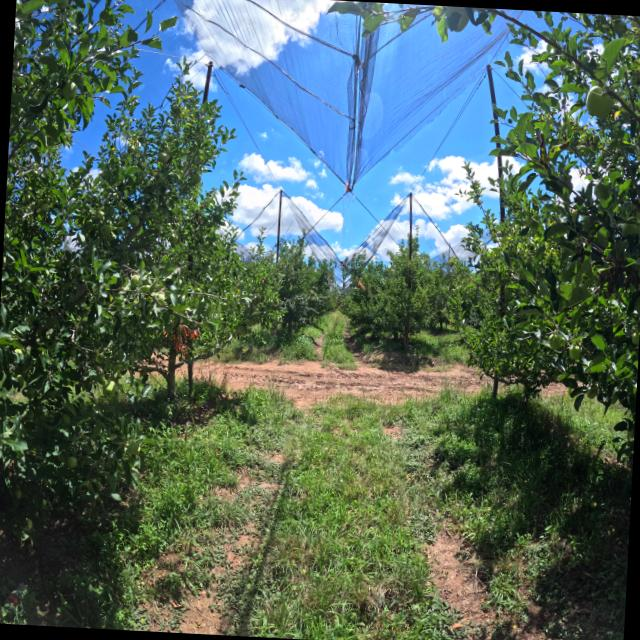-FireBlight-: (161, 324, 202, 360)
